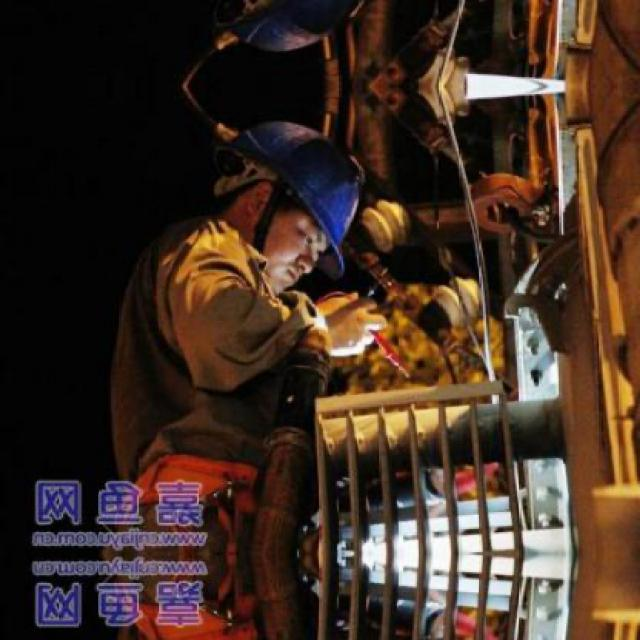helmet: (228, 119, 378, 293), (226, 0, 379, 56)
